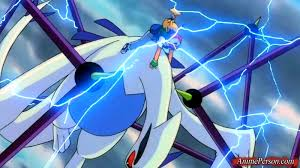lugia: (125, 111, 184, 168)
